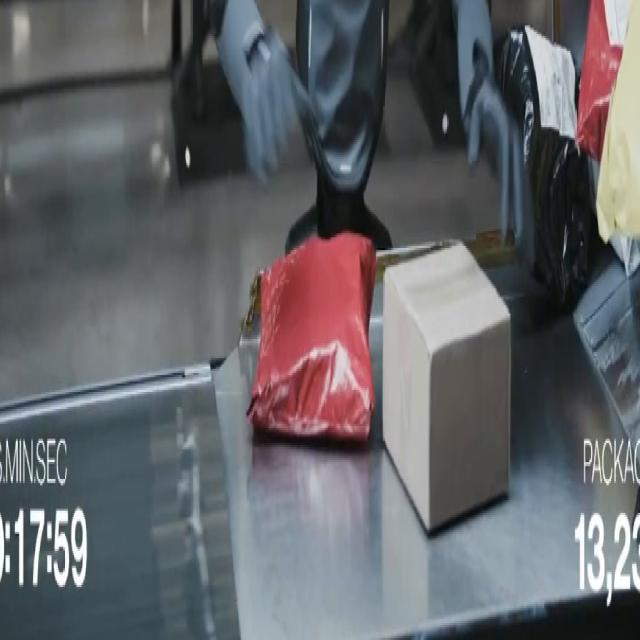package: (383, 244, 510, 531), (497, 28, 592, 307), (248, 234, 376, 440), (597, 3, 639, 241), (576, 0, 630, 161), (609, 234, 639, 277)
